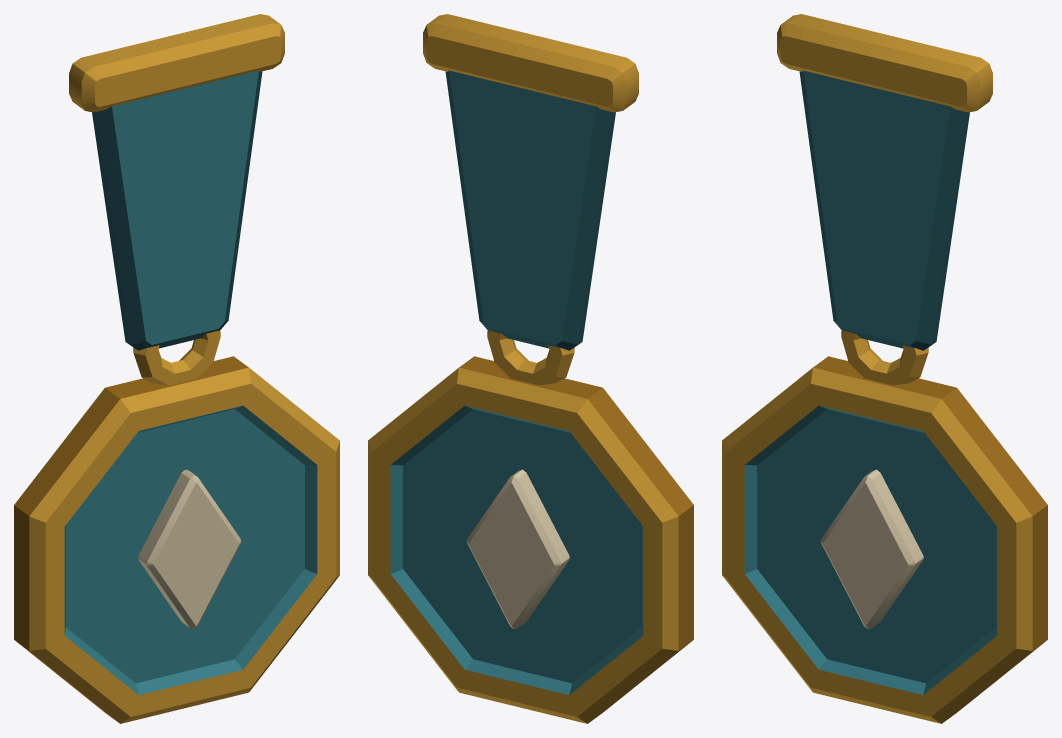
Rendered from Medal_34.glb.
The picture shows the model from 3 angles, left to right: view 1: azimuth 30°, elevation 25°; view 2: azimuth 150°, elevation 25°; view 3: azimuth 330°, elevation 25°; orthographic projection.
Visible parts, largest first — view 1: Medal_34; view 2: Medal_34; view 3: Medal_34.
Boxes of the visible parts, left/top/right/bottom form: Medal_34: left=14, top=14, right=339, bottom=723; Medal_34: left=368, top=14, right=693, bottom=723; Medal_34: left=722, top=14, right=1047, bottom=723.
Bounding box in the file's own units: 1.28 × 2.61 × 0.28.
